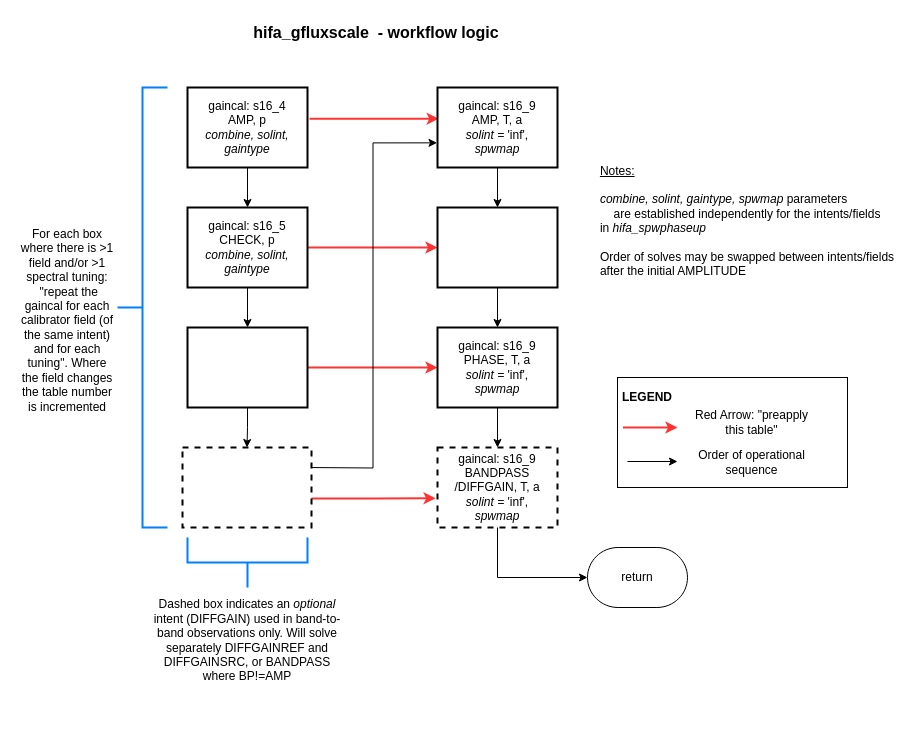
This 914x749 diagram has some shape labels left out. The centre of each missing label's shape, as x and y in pixels:
gaincal: s16_6 PHASE, p combine, solint, gaintype: (247,367)
gaincal: s16_7, s16_8 BANDPASS / DIFFGAIN, p combine, solint, gaintype: (246,487)
gaincal: s16_9 CHECK, T, a solint = 'inf', spwmap: (497,247)
